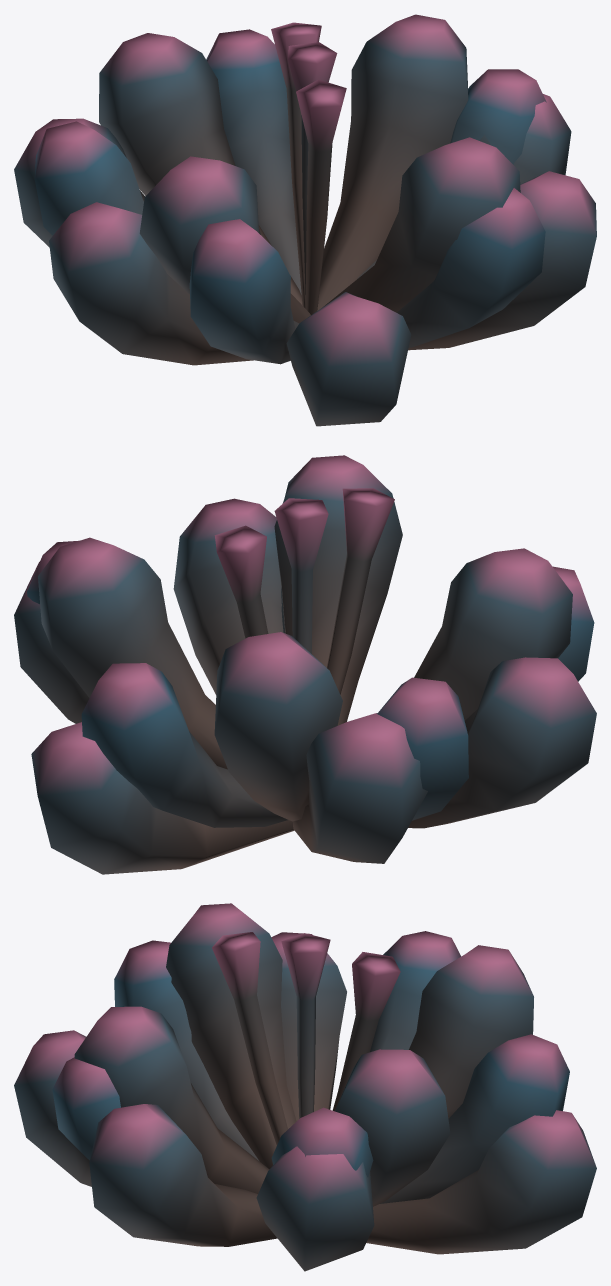
Rendered from plants-cacti-succulents-baby-toes_v6.fbx.
3 renders of one model, top to bottom at view 1: azimuth 30°, elevation 25°; view 2: azimuth 150°, elevation 25°; view 3: azimuth 270°, elevation 25°, orthographic. The views are drawn at different scales.
Parts seen in each view (by area): view 1: Baby Toes_v6; view 2: Baby Toes_v6; view 3: Baby Toes_v6.
Part boxes in pixels (bbox=[...]): Baby Toes_v6: bbox=[14, 14, 596, 426]; Baby Toes_v6: bbox=[14, 455, 596, 874]; Baby Toes_v6: bbox=[14, 903, 596, 1271].
Bounding box in the file's own units: 0.1492 × 0.0822 × 0.15.
